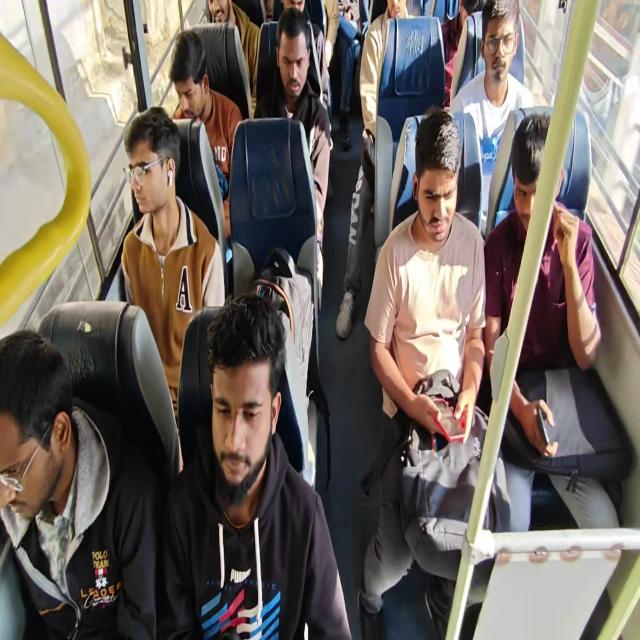person: (0, 376, 60, 518), (215, 347, 271, 489), (120, 128, 180, 228), (506, 137, 554, 238), (420, 144, 460, 248), (482, 5, 518, 90), (168, 50, 210, 118), (276, 30, 312, 99), (206, 0, 237, 47), (378, 0, 406, 25)
